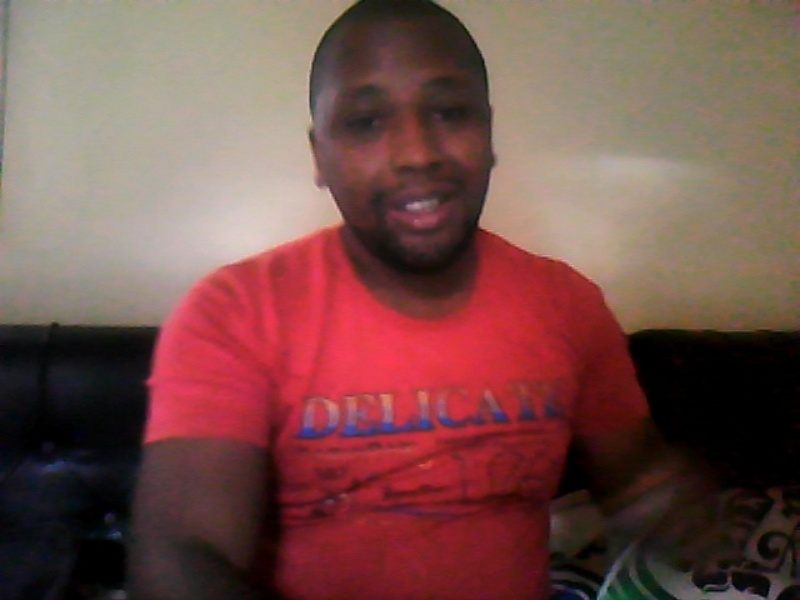TsisyArotava: (295, 15, 520, 280)
